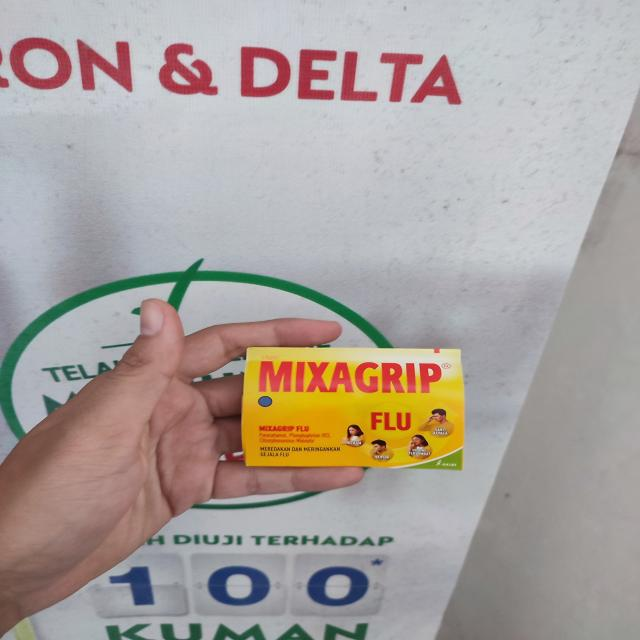B3: (243, 345, 465, 472)
